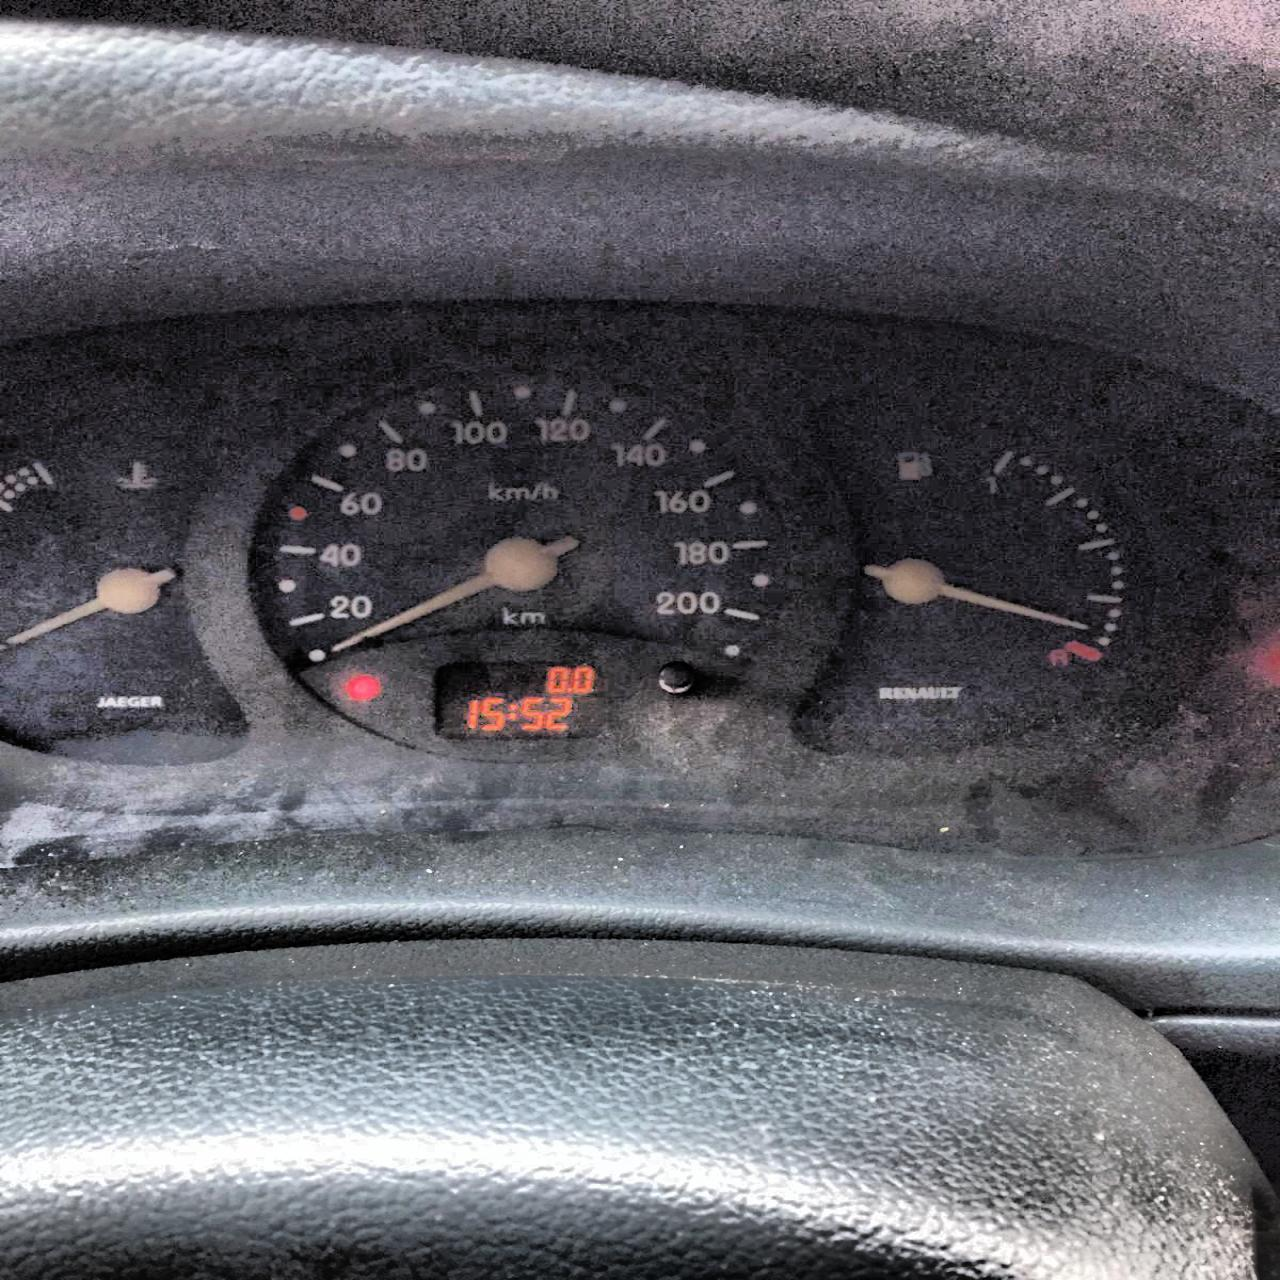-: (565, 686, 572, 692)
0: (572, 667, 591, 692), (547, 667, 566, 692)
1: (468, 700, 478, 729)
2: (544, 697, 570, 729)
5: (520, 697, 543, 729), (481, 697, 502, 729)
X: (508, 703, 516, 719)
odometer: (433, 659, 605, 740)
